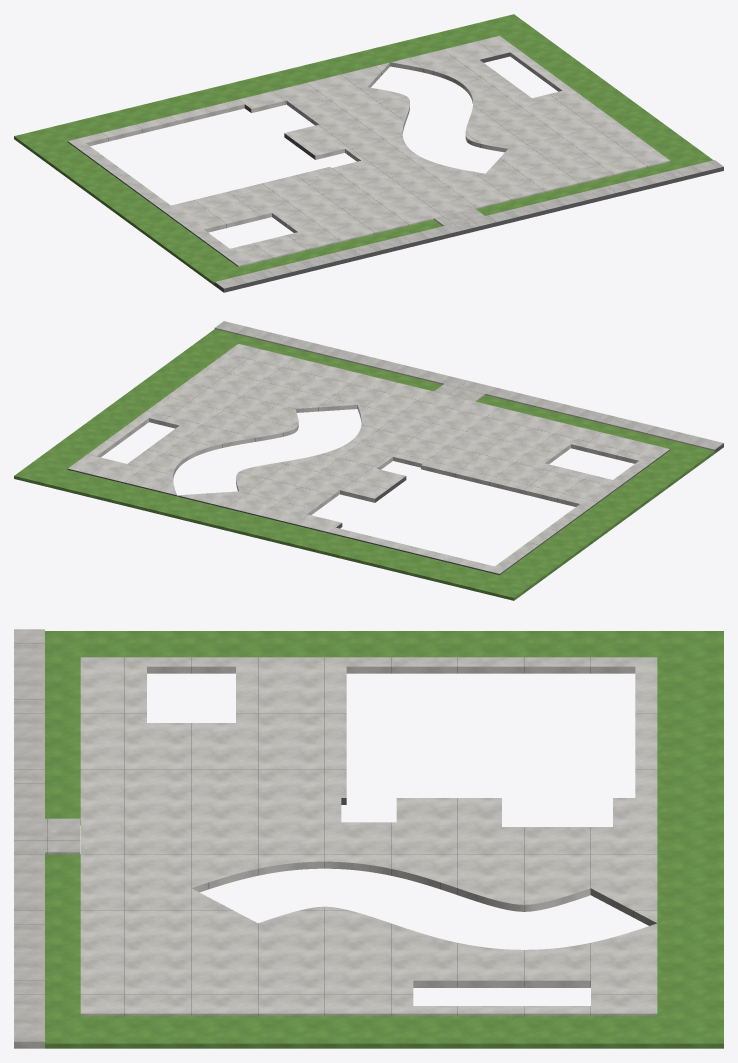
File: site.glb
3 views of the same model, one above another, from view 1: azimuth 30°, elevation 25°; view 2: azimuth 150°, elevation 25°; view 3: azimuth 270°, elevation 25° (orthographic). The views are drawn at different scales.
Parts seen in each view (by area): view 1: site_slab, site_grass, site_concrete, site_dark; view 2: site_slab, site_grass, site_concrete, site_dark; view 3: site_slab, site_grass, site_concrete, site_dark.
Boxes of the visible parts, x1,y1,x2,y2 form: site_slab: (68,36,670,266); site_grass: (14,14,713,285); site_concrete: (215,160,723,288); site_dark: (67,52,723,292); site_slab: (68,344,669,573); site_grass: (14,329,714,600); site_concrete: (214,321,723,450); site_dark: (67,329,723,574); site_slab: (80,657,657,1015); site_grass: (45,631,723,1048); site_concrete: (14,629,80,1048); site_dark: (47,657,633,1015).
Bounding box in the file's own units: 44 × 0.35 × 32.
4 materials, 3 textured.
